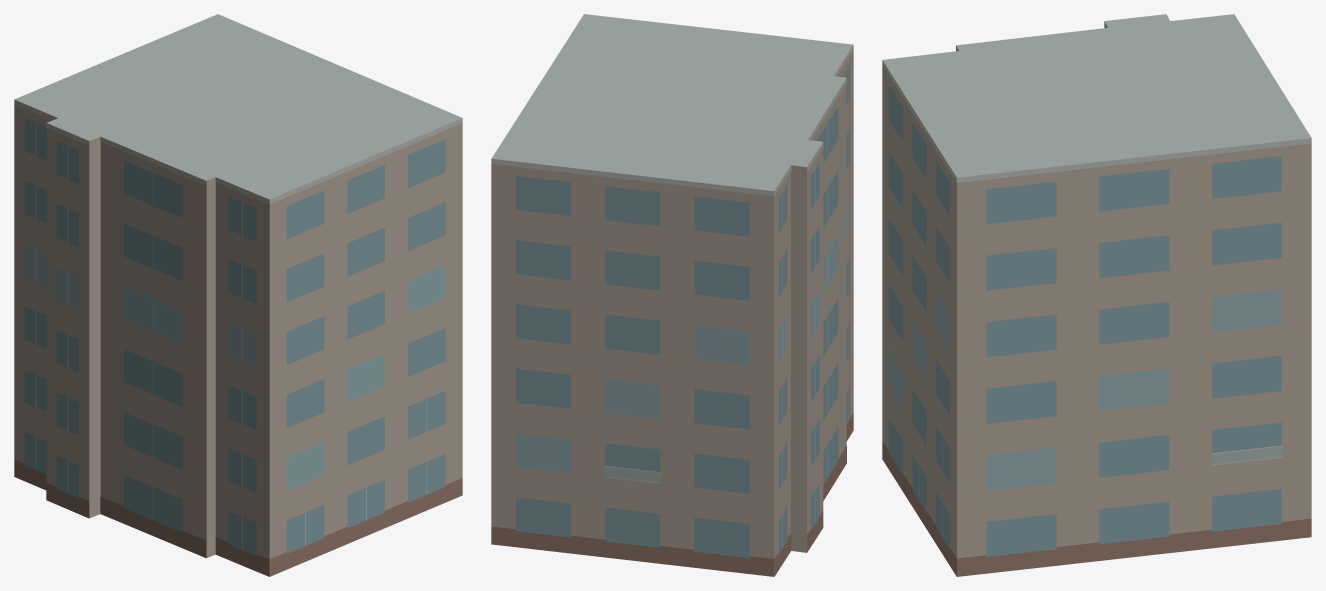
File: survey-upis-32980915.glb
3 views of the same model, side by side, from view 1: azimuth 30°, elevation 25°; view 2: azimuth 150°, elevation 25°; view 3: azimuth 270°, elevation 25° (orthographic). The views are drawn at different scales.
Parts seen in each view (by area): view 1: survey-upis-32980915.tmp; view 2: survey-upis-32980915.tmp; view 3: survey-upis-32980915.tmp.
Part boxes in pixels (x1,y1,x2,y2): survey-upis-32980915.tmp: (14,14,462,576); survey-upis-32980915.tmp: (491,14,853,576); survey-upis-32980915.tmp: (882,14,1311,576).
Size of the model in its own units: 16.12 by 18.3 by 17.85.
